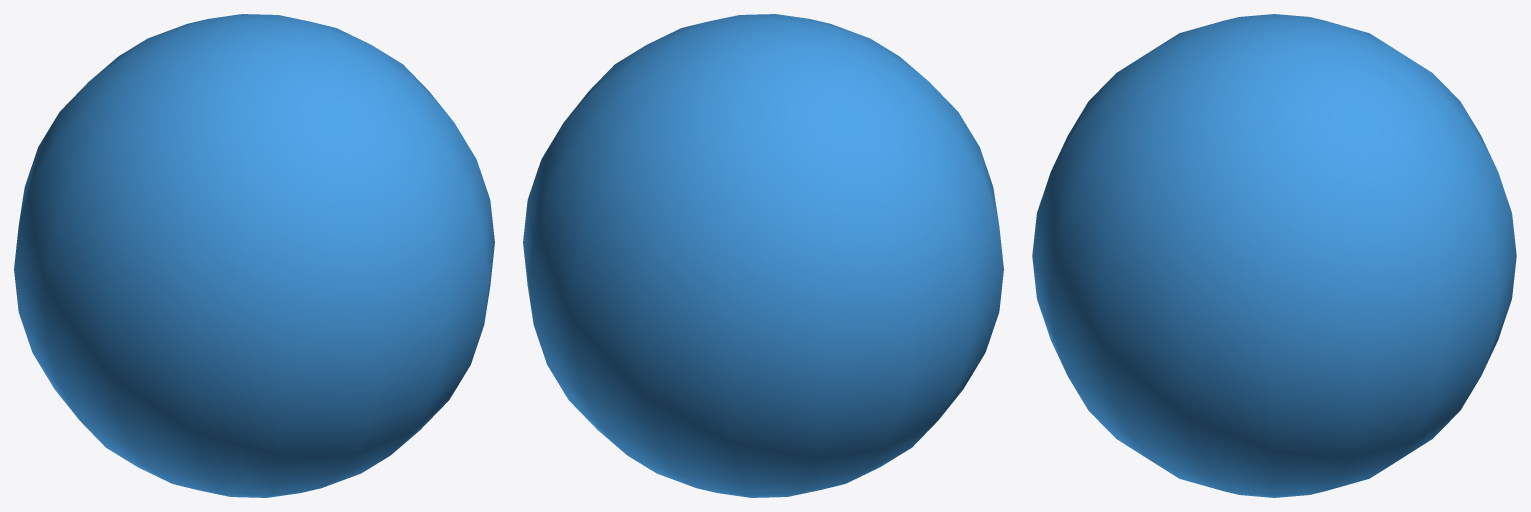
File: orbCristal.fbx
The picture shows the model from 3 angles, left to right: view 1: azimuth 30°, elevation 25°; view 2: azimuth 150°, elevation 25°; view 3: azimuth 270°, elevation 25°; orthographic projection.
Parts seen in each view (by area): view 1: Vidro; view 2: Vidro; view 3: Vidro.
Boxes of the visible parts, x1,y1,x2,y2 form: Vidro: [14, 14, 494, 497]; Vidro: [523, 14, 1003, 497]; Vidro: [1032, 14, 1516, 497].
Bounding box in the file's own units: 208 × 208 × 208.
